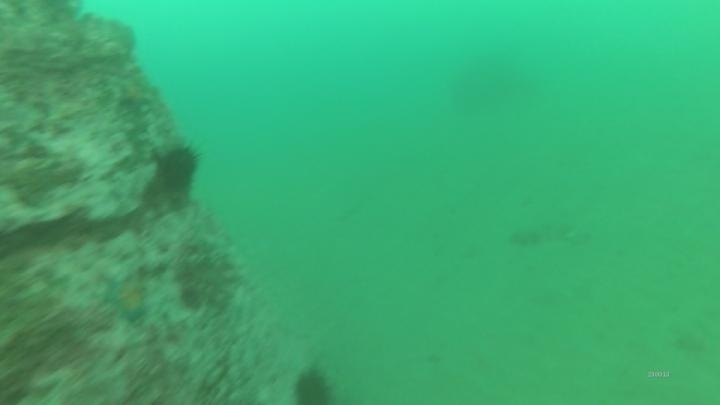echinus: (152, 140, 204, 198), (290, 365, 336, 404)
holothurian: (505, 214, 592, 251)
starfish: (98, 271, 153, 326), (114, 75, 155, 113)
